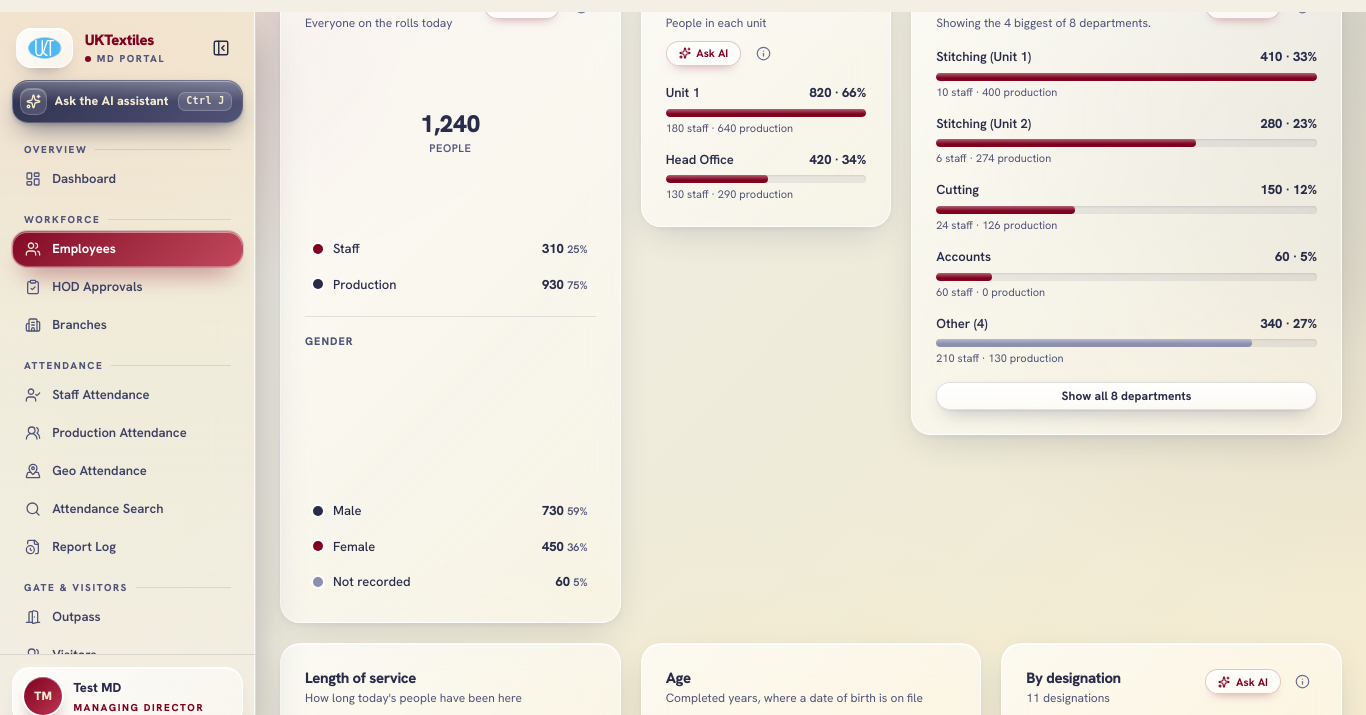
Test: MdEmployees › lists every department only when asked
(page scrolled)
Click the button with test id "md-employees-departments-more" at [1127, 396], box [936,382,1317,410]
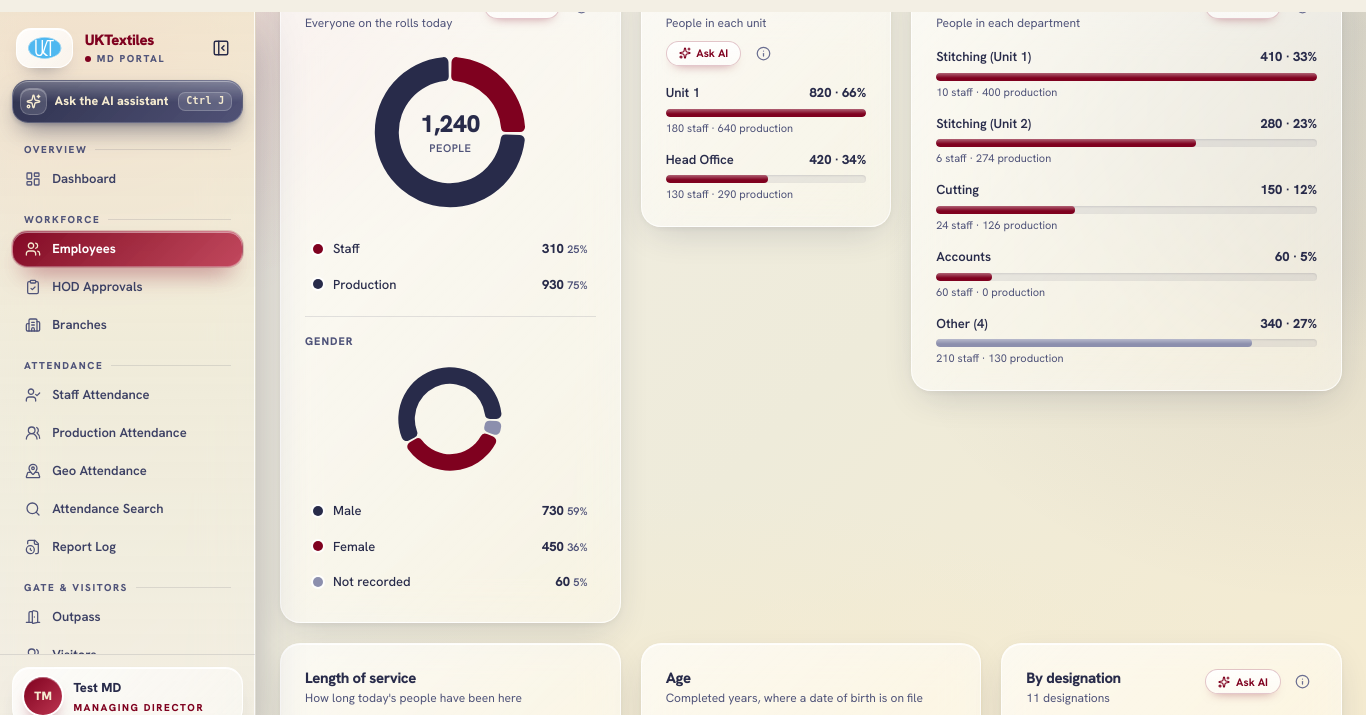
Check: the button with test id "md-employees-departments-more" is gone
